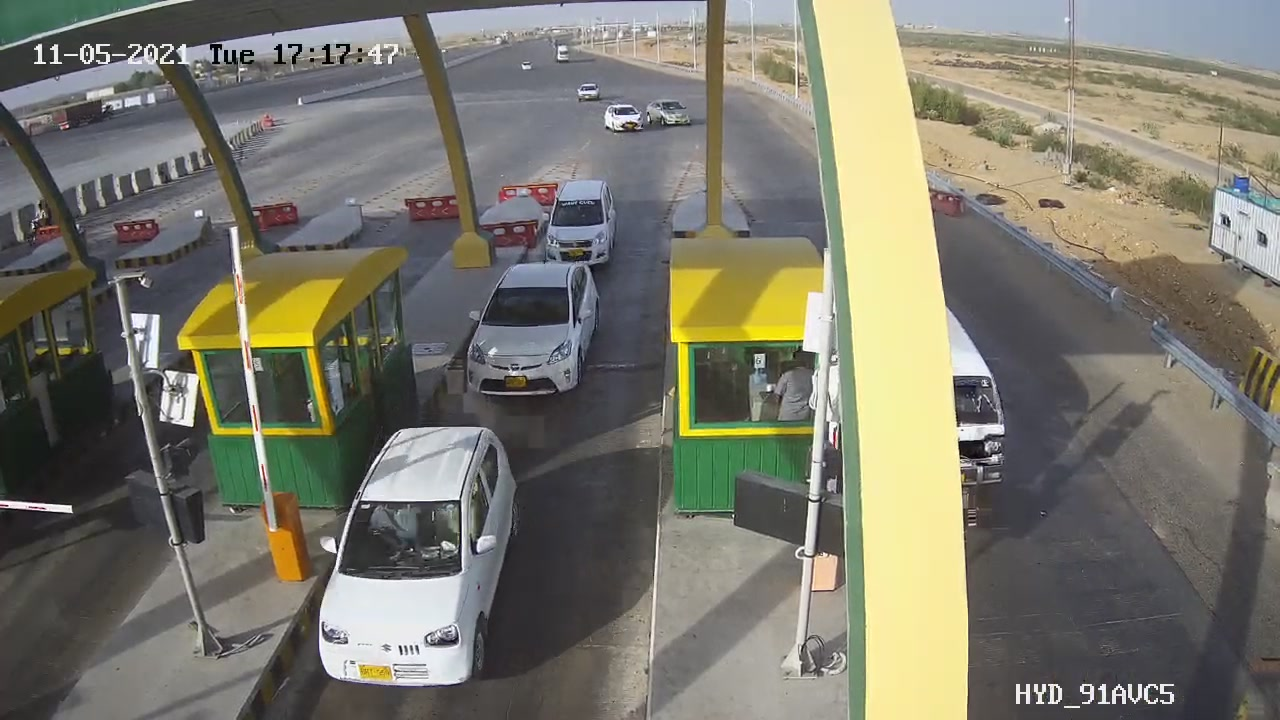F1: (453, 251, 617, 409), (529, 173, 631, 282)
